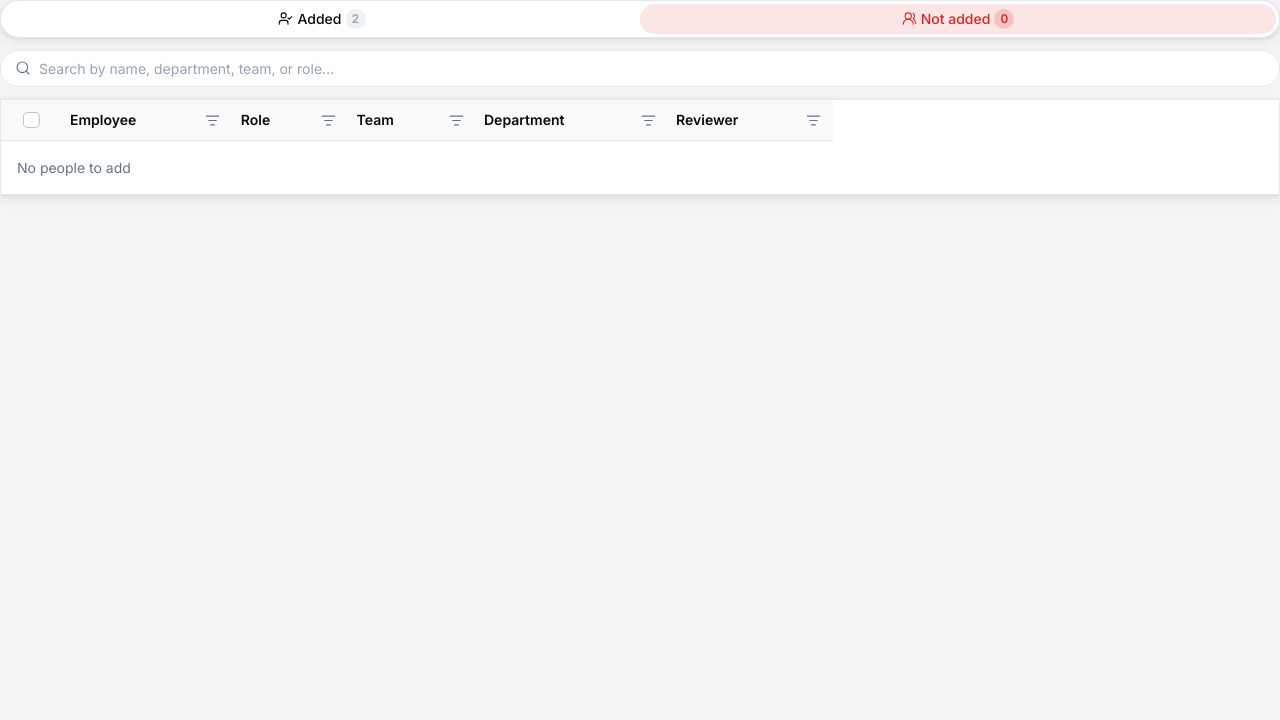
Scenario: GroupMembersEditor › removes a single member via the selection controls
The image size is (1280, 720).
Click the button "Added 2". click: (322, 19)
box: [4, 4, 640, 34]
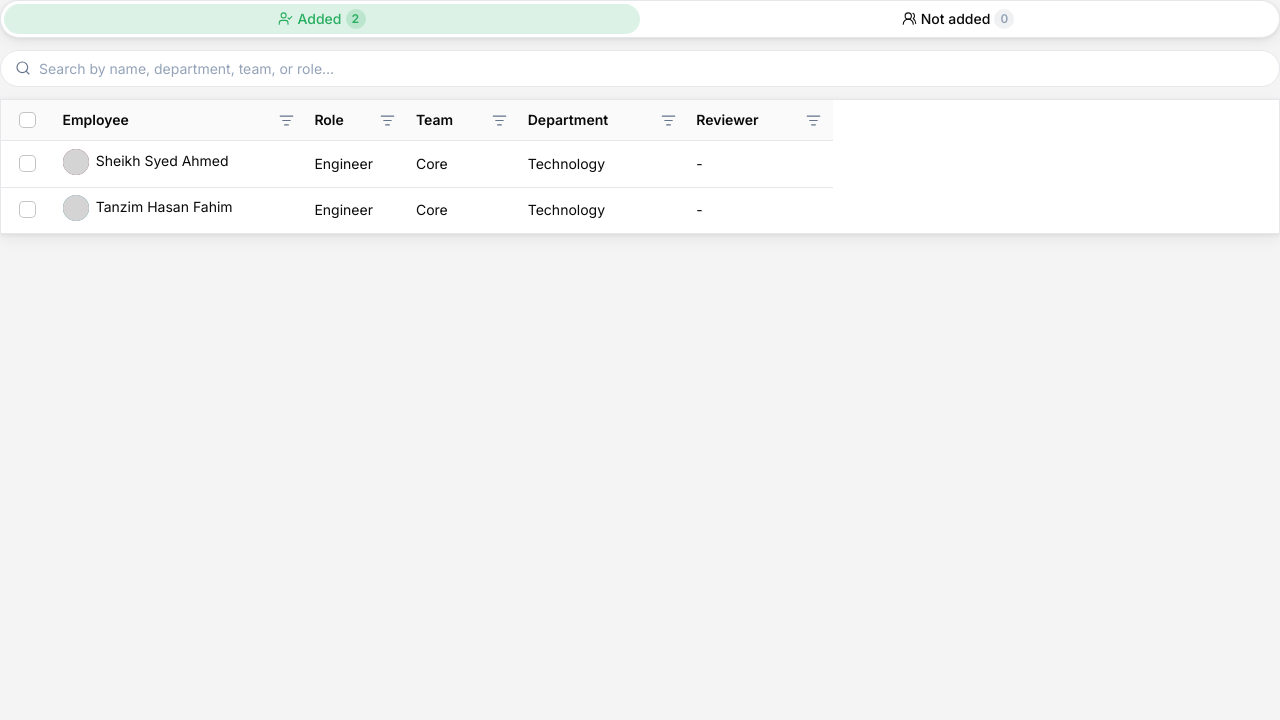
Click the checkbox named "Select Sheikh Syed Ahmed". click: (28, 164)
box: [19, 155, 36, 172]
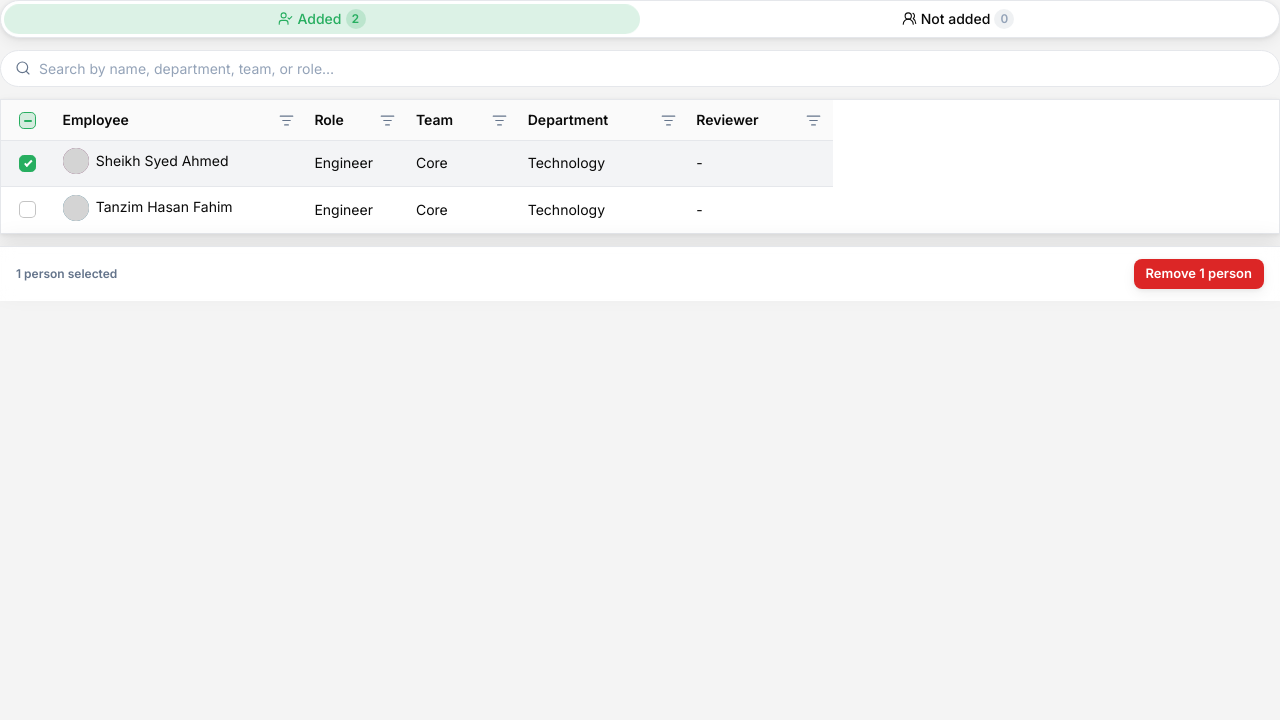
Click the button "Remove 1 person". click: (1199, 274)
box: [1134, 259, 1264, 289]
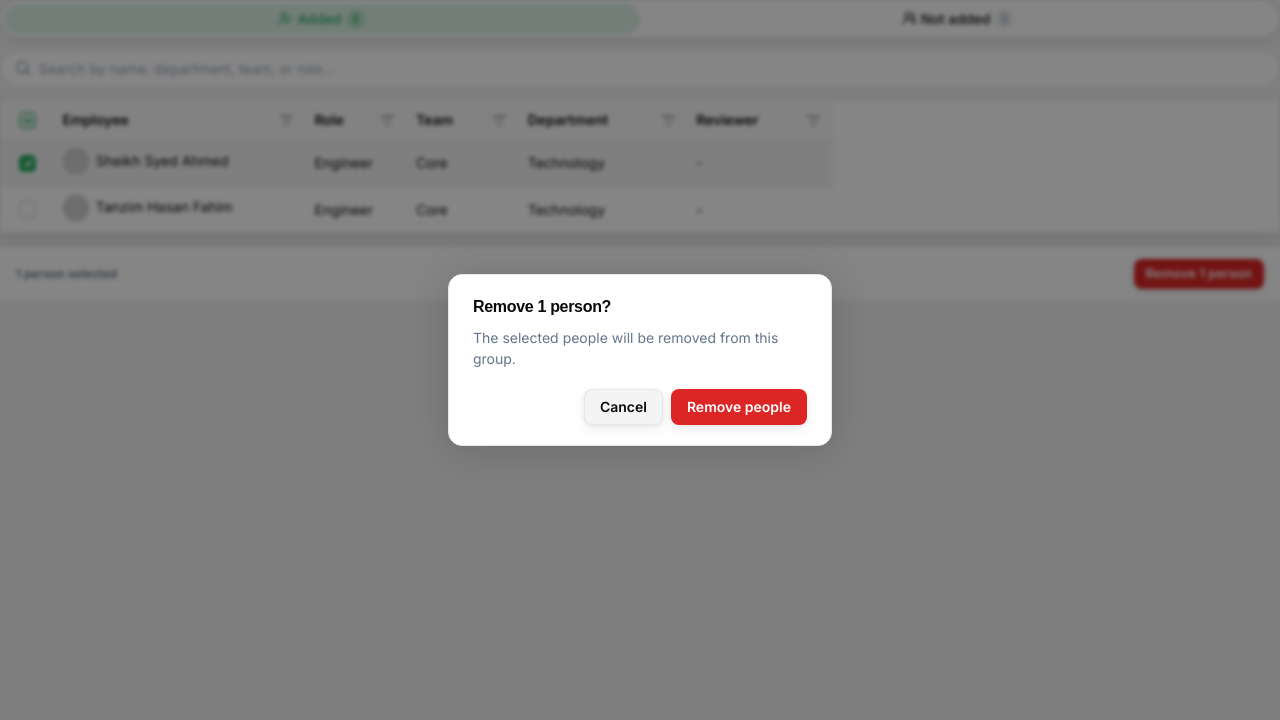
Click the button "Remove people". click: (739, 407)
box: [671, 389, 807, 425]
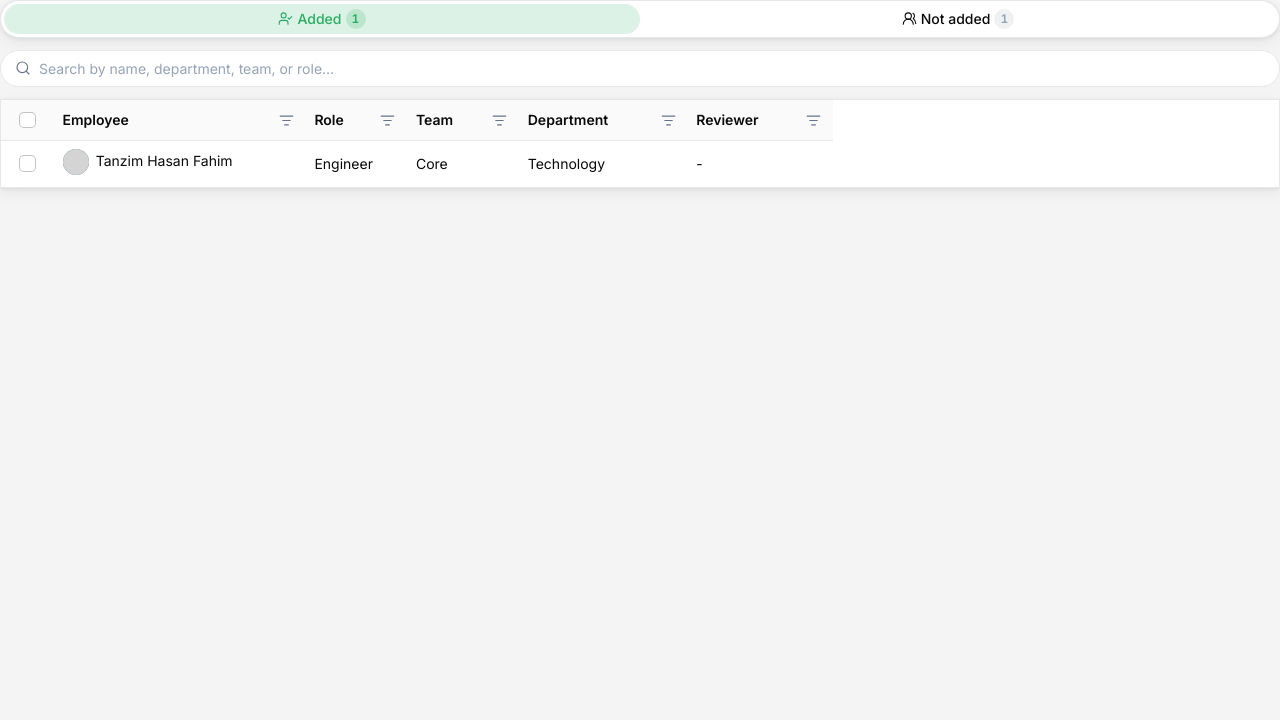
Now the text "Tanzim Hasan Fahim" is shown, box [96, 152, 233, 171]
Now the text "Sheikh Syed Ahmed" is gone
